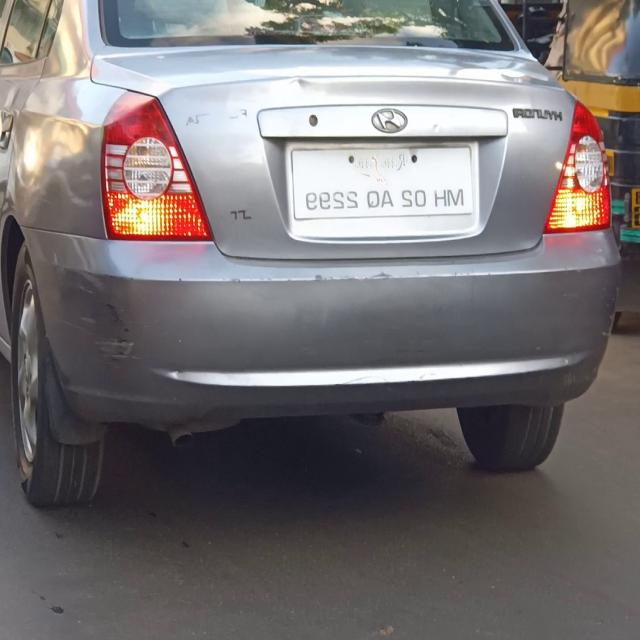license_plate: (286, 144, 478, 235)
